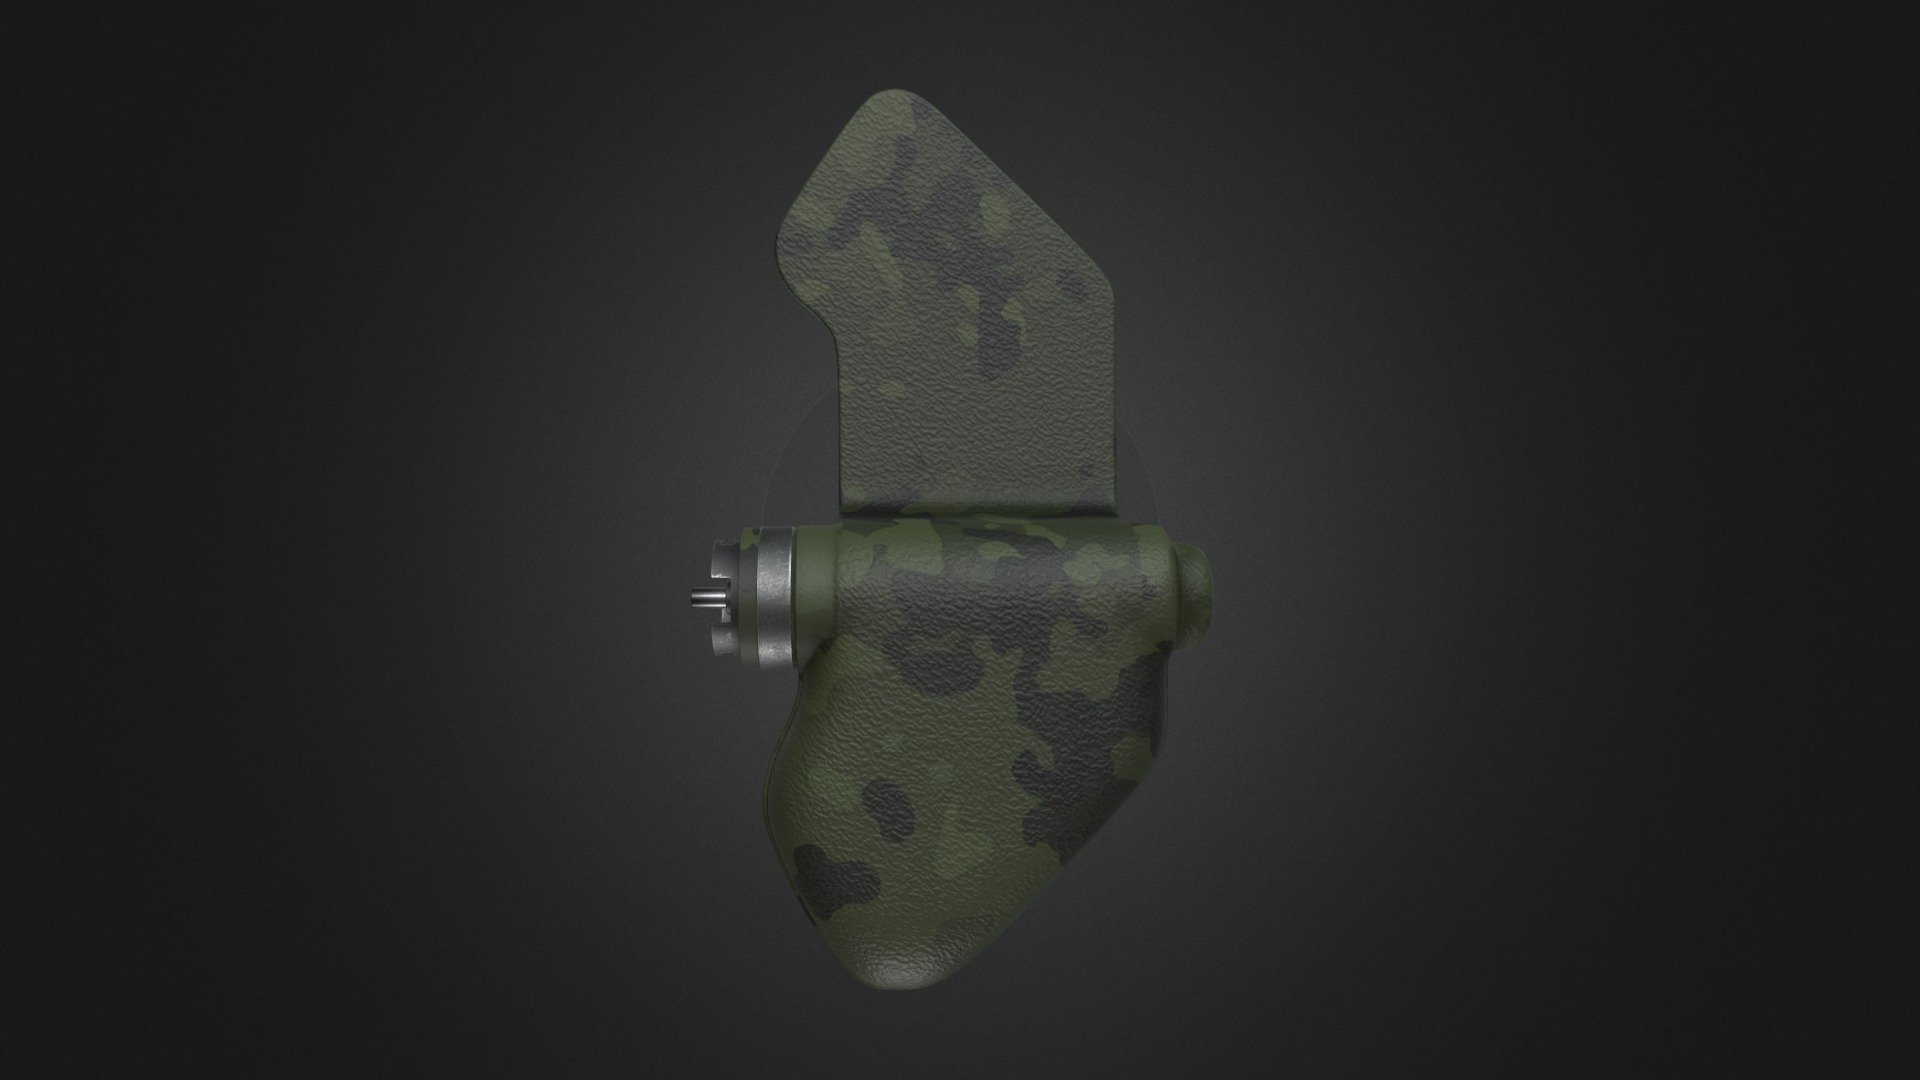butterfly: (688, 61, 1262, 1019)
